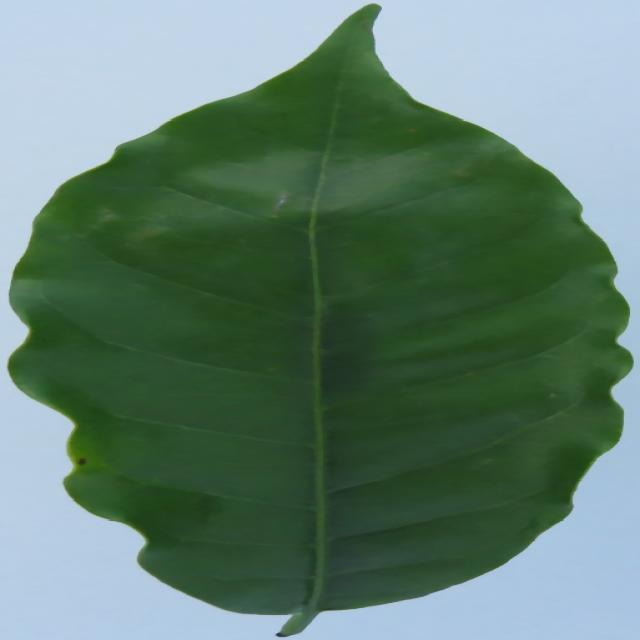DeficienciaNutricional-Calcio: (12, 5, 629, 635)
